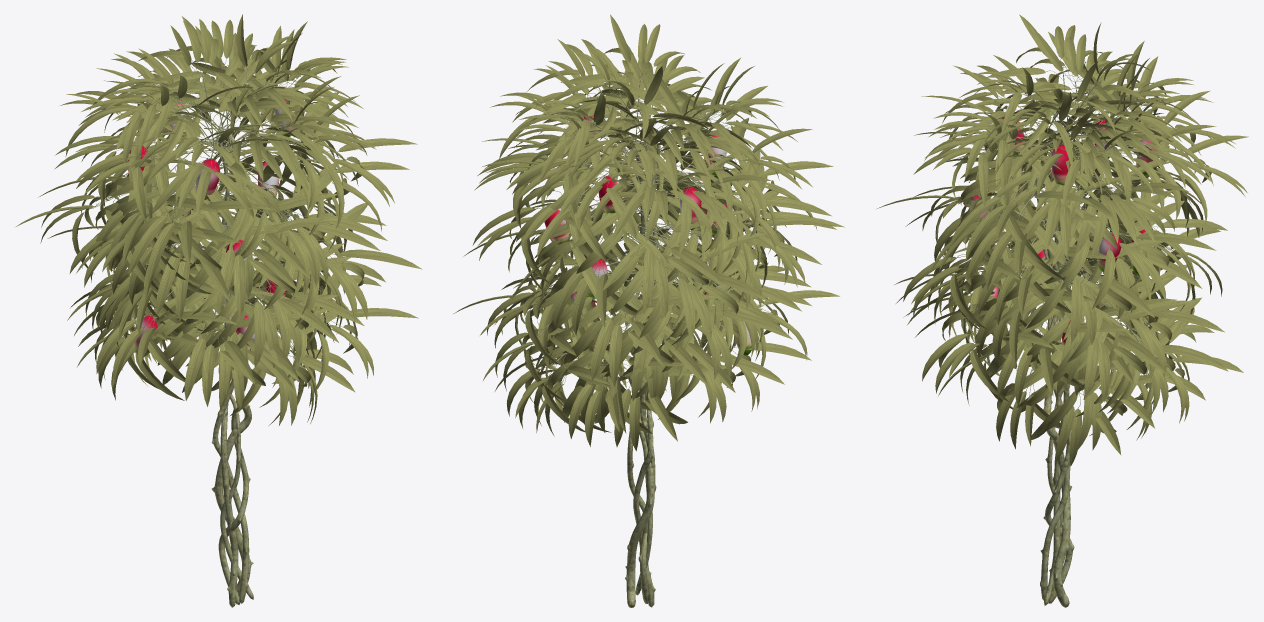
The picture shows the model from 3 angles, left to right: view 1: azimuth 30°, elevation 25°; view 2: azimuth 150°, elevation 25°; view 3: azimuth 270°, elevation 25°; orthographic projection.
Parts seen in each view (by area): view 1: Leves, Trunk, Branches, Froots; view 2: Leves, Branches, Trunk, Froots; view 3: Leves, Trunk, Branches, Froots.
Boxes of the visible parts, x1,y1,x2,y2 form: Leves: (16,14,422,425); Trunk: (211,128,253,607); Branches: (85,59,346,364); Froots: (128,100,294,356); Leves: (453,14,844,451); Branches: (529,56,770,399); Trunk: (625,142,666,607); Froots: (544,116,755,355); Leves: (877,14,1248,466); Trunk: (1035,135,1074,607); Branches: (955,58,1193,407); Froots: (969,117,1159,343).
Bounding box in the file's own units: 39.82 × 65.91 × 39.74.
